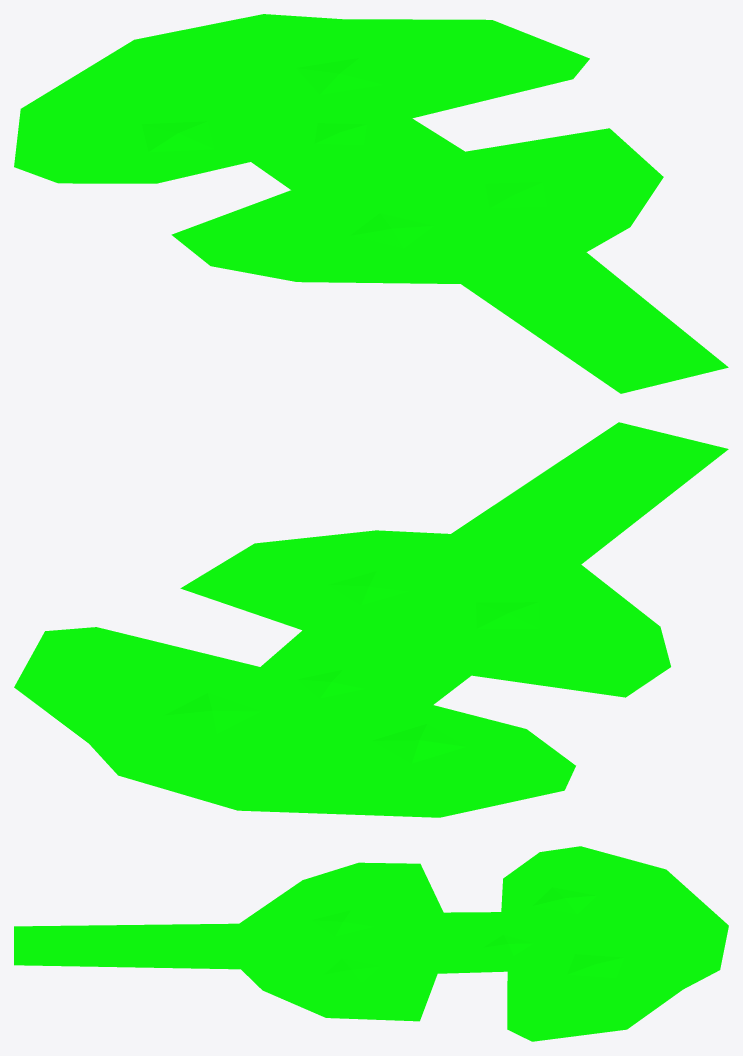
The model's file is s07a_nc2-floor.glb.
3 renders of one model, top to bottom at view 1: azimuth 30°, elevation 25°; view 2: azimuth 150°, elevation 25°; view 3: azimuth 270°, elevation 25°, orthographic. The views are drawn at different scales.
Visible parts, largest first — view 1: collision_floor-colonly; view 2: collision_floor-colonly; view 3: collision_floor-colonly.
Part boxes in pixels (x1,y1,x2,y2): collision_floor-colonly: (14, 14, 728, 393); collision_floor-colonly: (14, 422, 728, 817); collision_floor-colonly: (14, 846, 728, 1041).
Bounding box in the file's own units: 31.02 × 0.2363 × 47.92.
